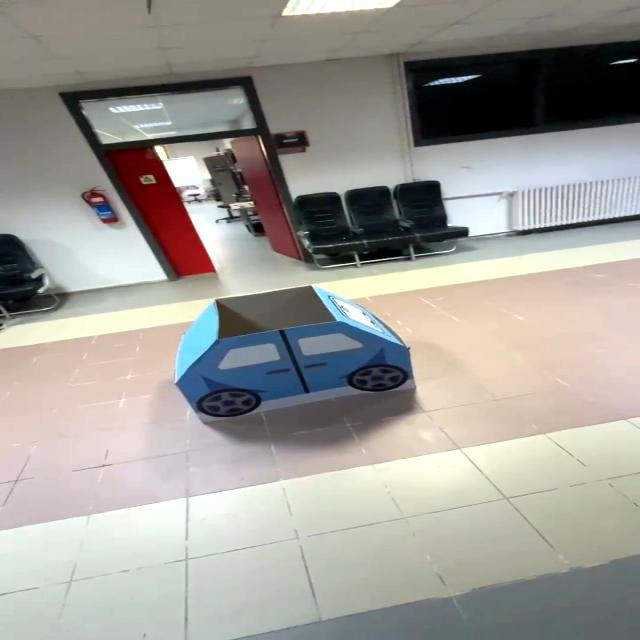blue_car: (146, 285, 442, 419)
